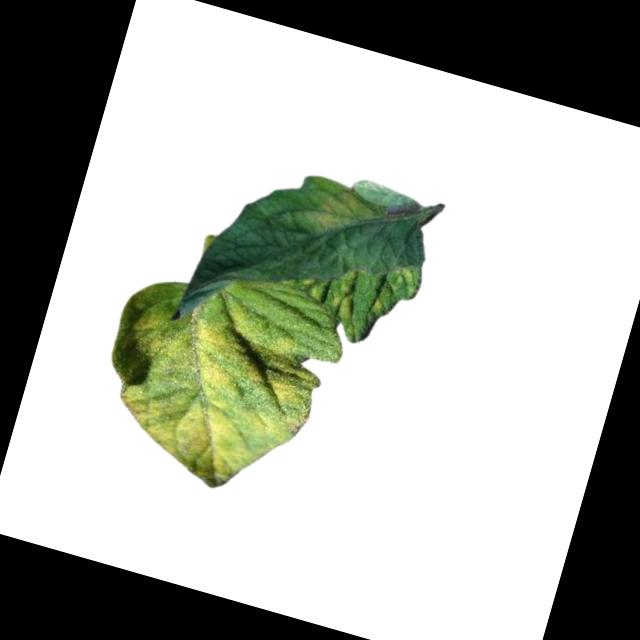Leaf_Mold: (83, 277, 337, 508), (295, 172, 386, 253), (324, 266, 366, 324), (384, 261, 426, 299)
